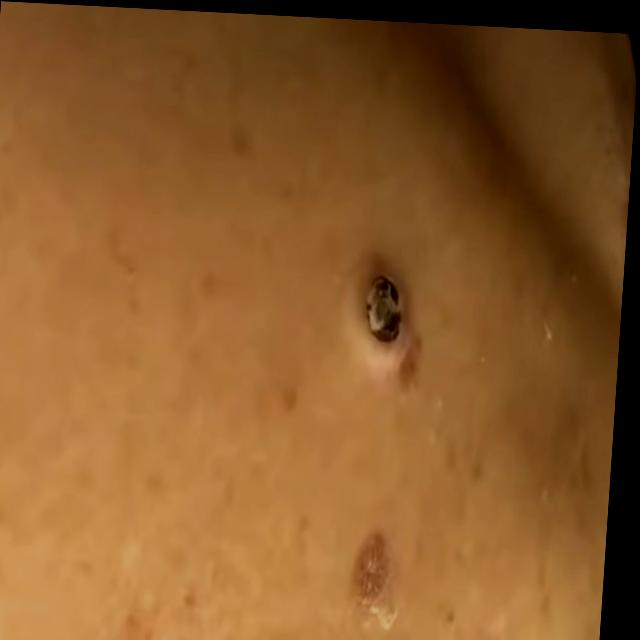dark spot: (355, 256, 421, 364)
